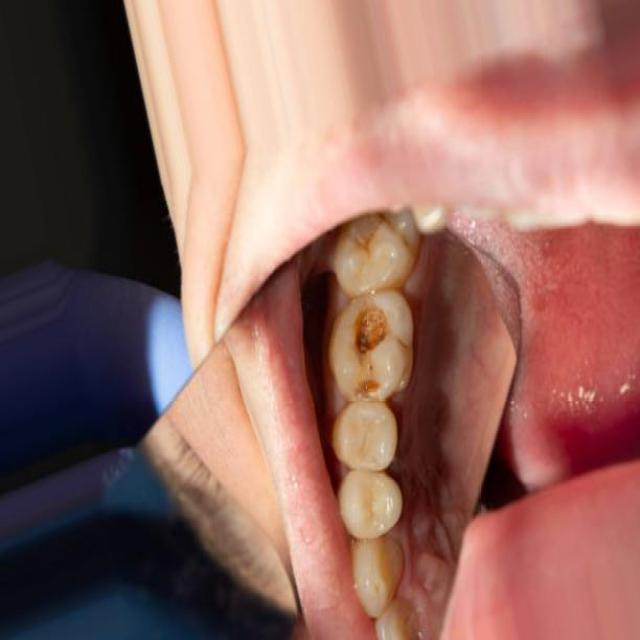caries: (338, 297, 410, 405)
